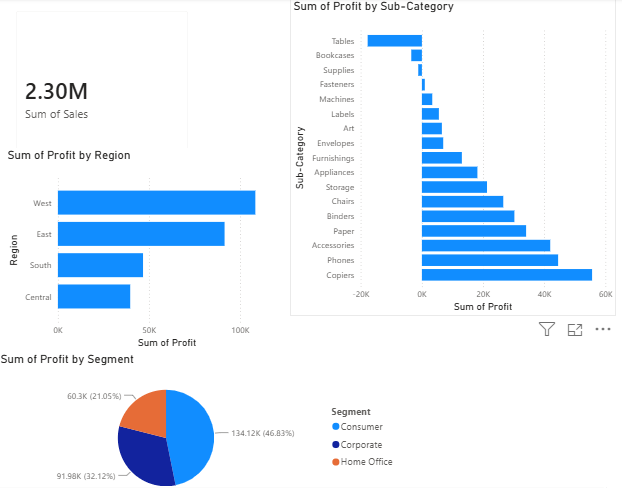

Layout of this report page (visuals, bound fields, positions):
{"tool":"powerbi","page":{"name":"Page 1","canvas":[1280,720],"ordinal":0},"visuals":[{"type":"cardVisual","fields":{"Data":["Sum(Sheet1.Sales)"]},"box":[10,0,280,280],"z":0},{"type":"clusteredBarChart","fields":{"Y":["Sum(Sheet1.Profit)"],"Category":["Sheet1.Region"]},"box":[10.1,213.3,408.2,290.6],"z":1},{"type":"pieChart","fields":{"Category":["Sheet1.Segment"],"Y":["Sum(Sheet1.Profit)"]},"box":[0,504.3,580,215.7],"z":2},{"type":"clusteredBarChart","fields":{"Category":["Sheet1.Sub-Category"],"Y":["Sum(Sheet1.Profit)"]},"box":[418.6,0,465.7,452.9],"z":3}]}

Visuals, with their boxes on the page's 1280x720 design canvas (x1, y1, x2, y2). These are canvas units, not pixel positions in the 622x488 screenshot, which may show the page scaled, cropped or inside an application window:
cardVisual - Sum(Sheet1.Sales): [left=10, top=0, right=290, bottom=280]
clusteredBarChart - Sum(Sheet1.Profit) x Sheet1.Region: [left=10, top=213, right=418, bottom=504]
pieChart - Sheet1.Segment x Sum(Sheet1.Profit): [left=0, top=504, right=580, bottom=720]
clusteredBarChart - Sheet1.Sub-Category x Sum(Sheet1.Profit): [left=419, top=0, right=884, bottom=453]
